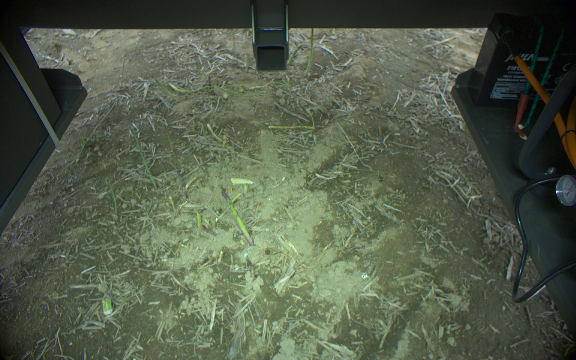aspa: (218, 188, 255, 246), (128, 129, 158, 189), (306, 27, 316, 75), (268, 123, 317, 132), (165, 80, 192, 94), (287, 42, 303, 64), (243, 53, 250, 71)
